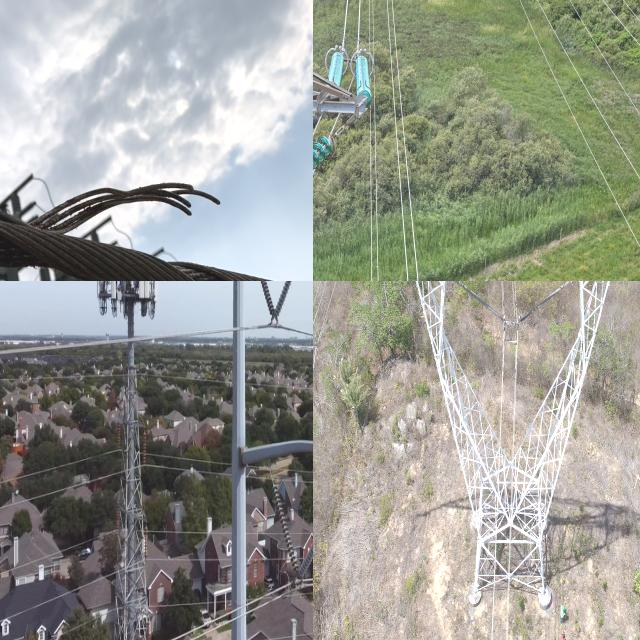杆塔: (313, 281, 640, 640), (96, 281, 161, 640)
正常绝缘子: (270, 485, 313, 579), (517, 281, 575, 325), (451, 281, 507, 325), (259, 281, 294, 325), (352, 48, 373, 108), (328, 48, 346, 88)
电缆破损: (0, 160, 238, 281)
